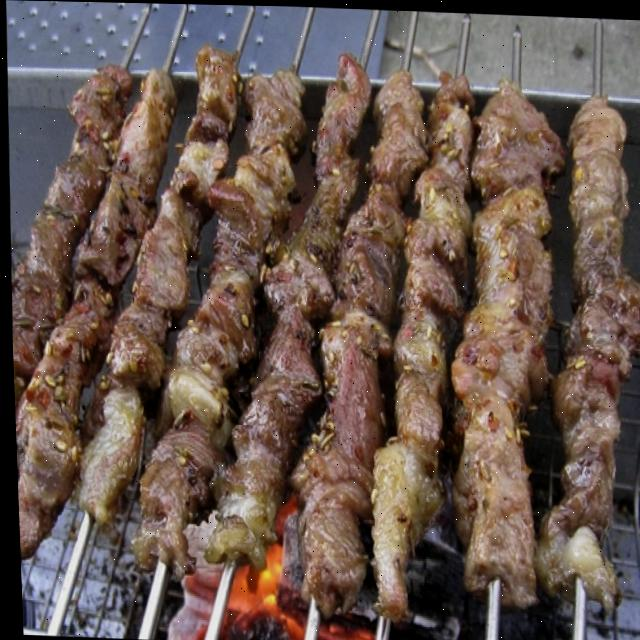烧串烤肉: (13, 30, 633, 619)
